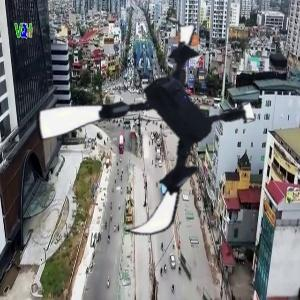drone: (39, 22, 255, 238)
